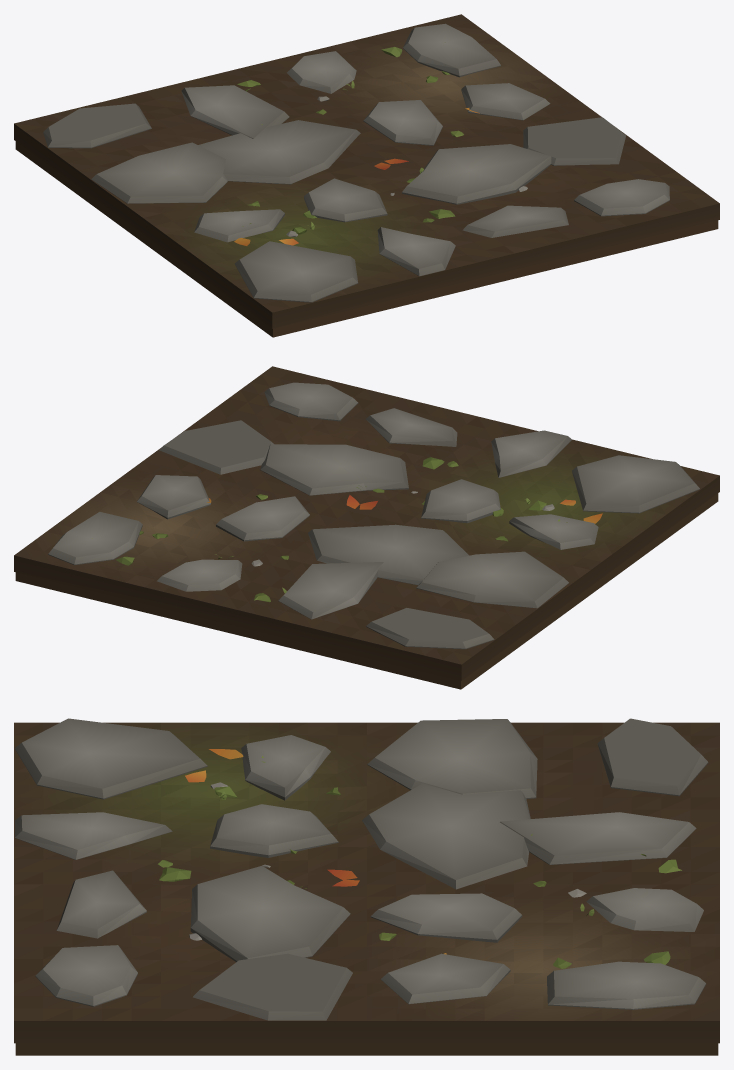
File: flagstone-path-tile-01.glb
3 renders of one model, top to bottom at view 1: azimuth 30°, elevation 25°; view 2: azimuth 150°, elevation 25°; view 3: azimuth 270°, elevation 25°, orthographic. The views are drawn at different scales.
Parts seen in each view (by area): view 1: flagstone_path_tile_01; view 2: flagstone_path_tile_01; view 3: flagstone_path_tile_01.
Part boxes in pixels (x1,y1,x2,y2): flagstone_path_tile_01: (14,14,719,337); flagstone_path_tile_01: (14,366,719,689); flagstone_path_tile_01: (14,718,719,1055).
Bounding box in the file's own units: 4 × 0.2722 × 4.
